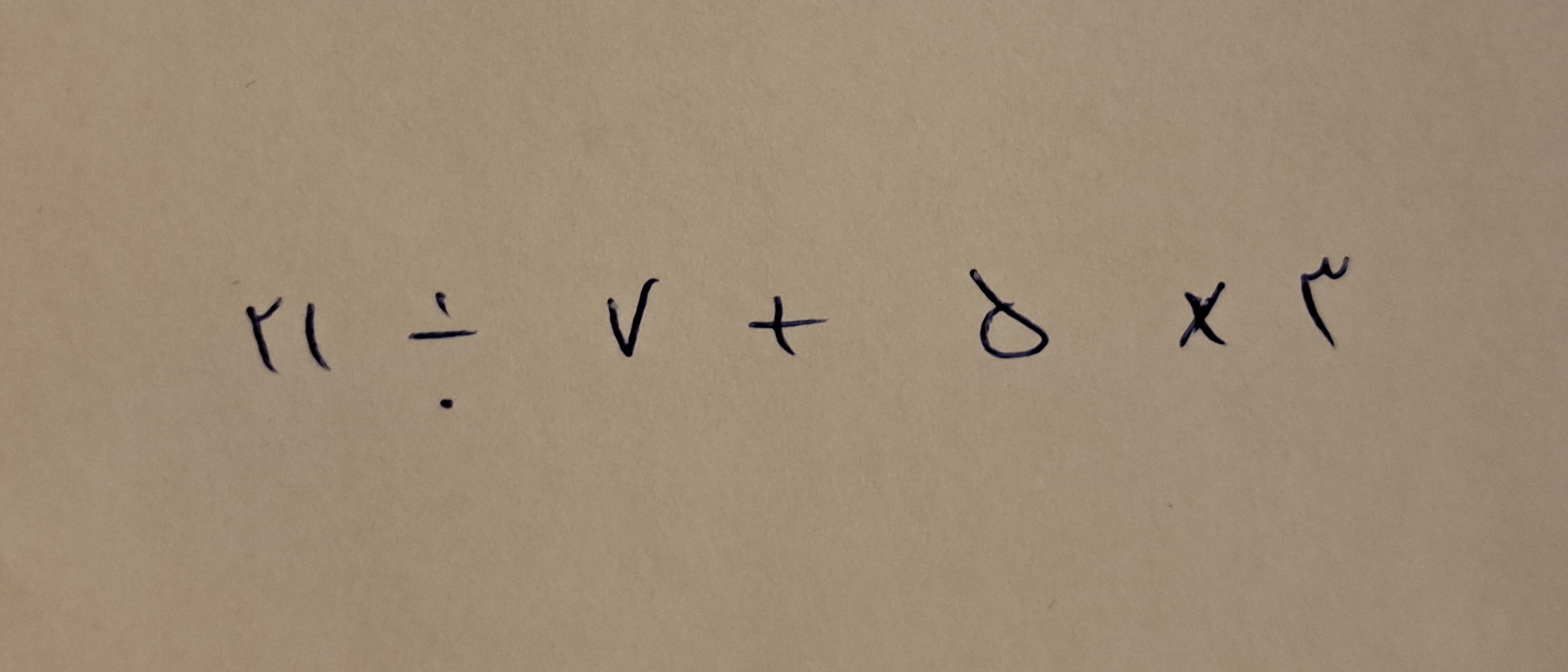character: (409, 291, 479, 412), (970, 268, 1050, 360), (1300, 258, 1350, 347), (749, 297, 824, 355), (605, 278, 657, 360), (1179, 283, 1226, 347), (245, 297, 283, 375), (303, 303, 328, 369)
